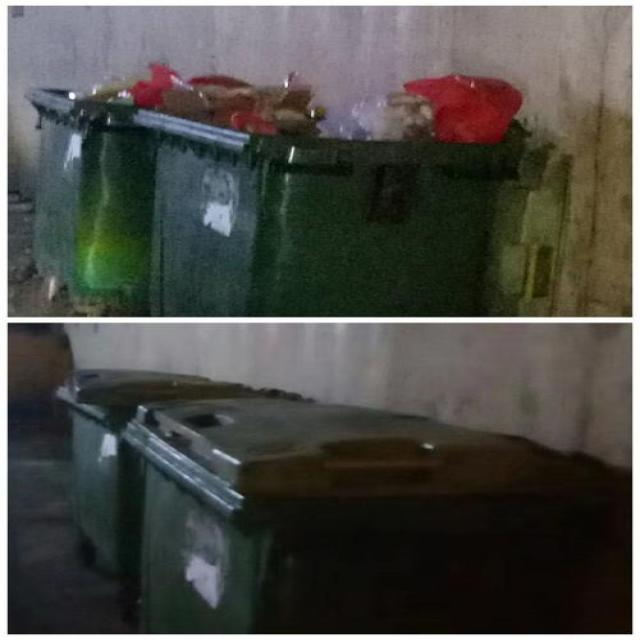garbage_bin: (119, 398, 631, 633), (51, 367, 310, 573)
overflow: (136, 73, 528, 316), (26, 62, 178, 298)
